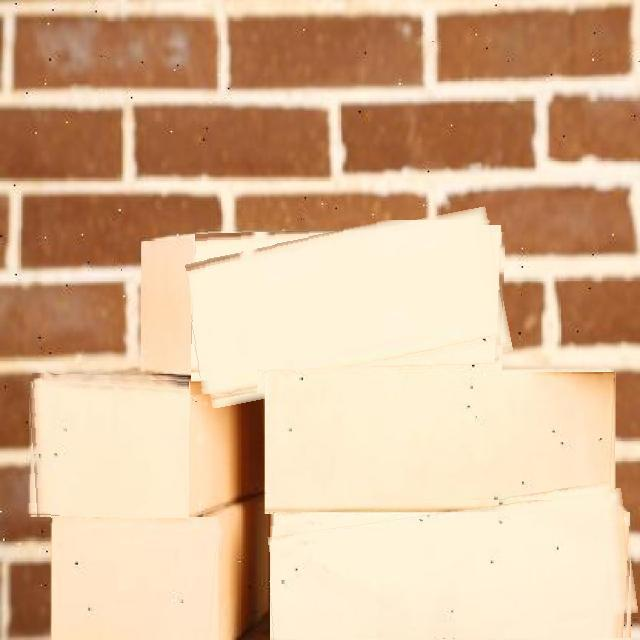BoxFace: (191, 220, 507, 395), (270, 500, 634, 640), (265, 372, 615, 514), (28, 375, 189, 519), (52, 517, 219, 640)
